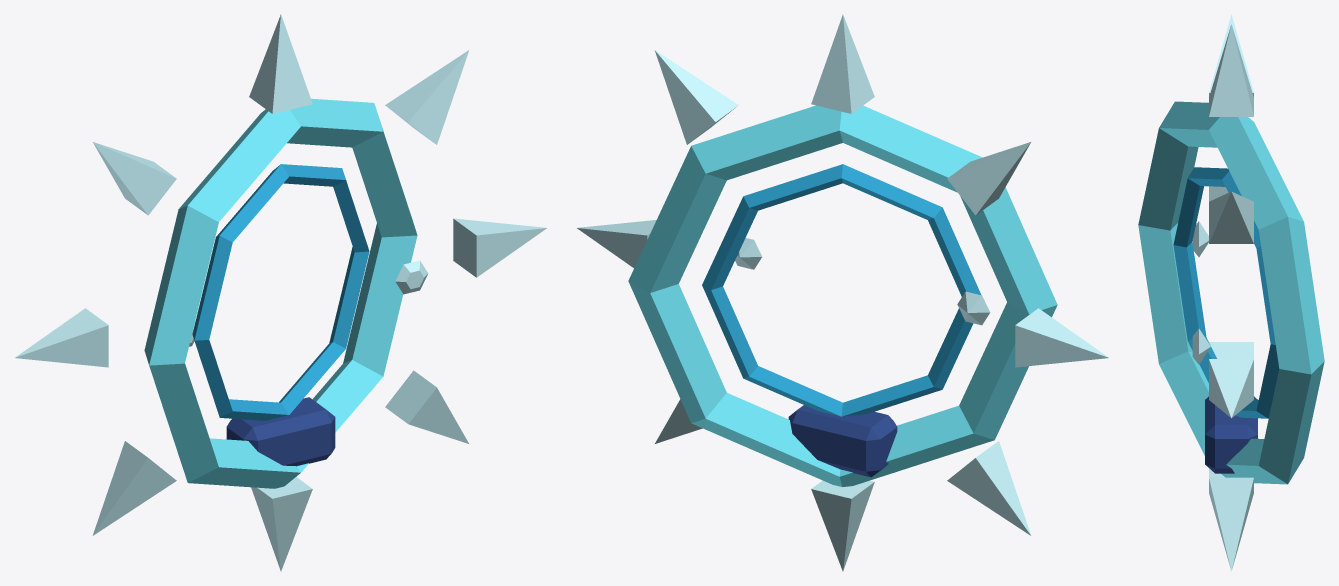
The model's file is DiamondChakram.fbx.
3 renders of one model, left to right at view 1: azimuth 30°, elevation 25°; view 2: azimuth 150°, elevation 25°; view 3: azimuth 270°, elevation 25°, orthographic. The views are drawn at different scales.
Visible parts, largest first — view 1: DiamondChakram; view 2: DiamondChakram; view 3: DiamondChakram.
Part boxes in pixels (left/top/right/bottom): DiamondChakram: left=15, top=14, right=546, bottom=571; DiamondChakram: left=577, top=14, right=1108, bottom=571; DiamondChakram: left=1138, top=14, right=1324, bottom=571.
Size of the model in its own units: 2.9 by 2.9 by 0.9106.
1 material, 1 textured.
